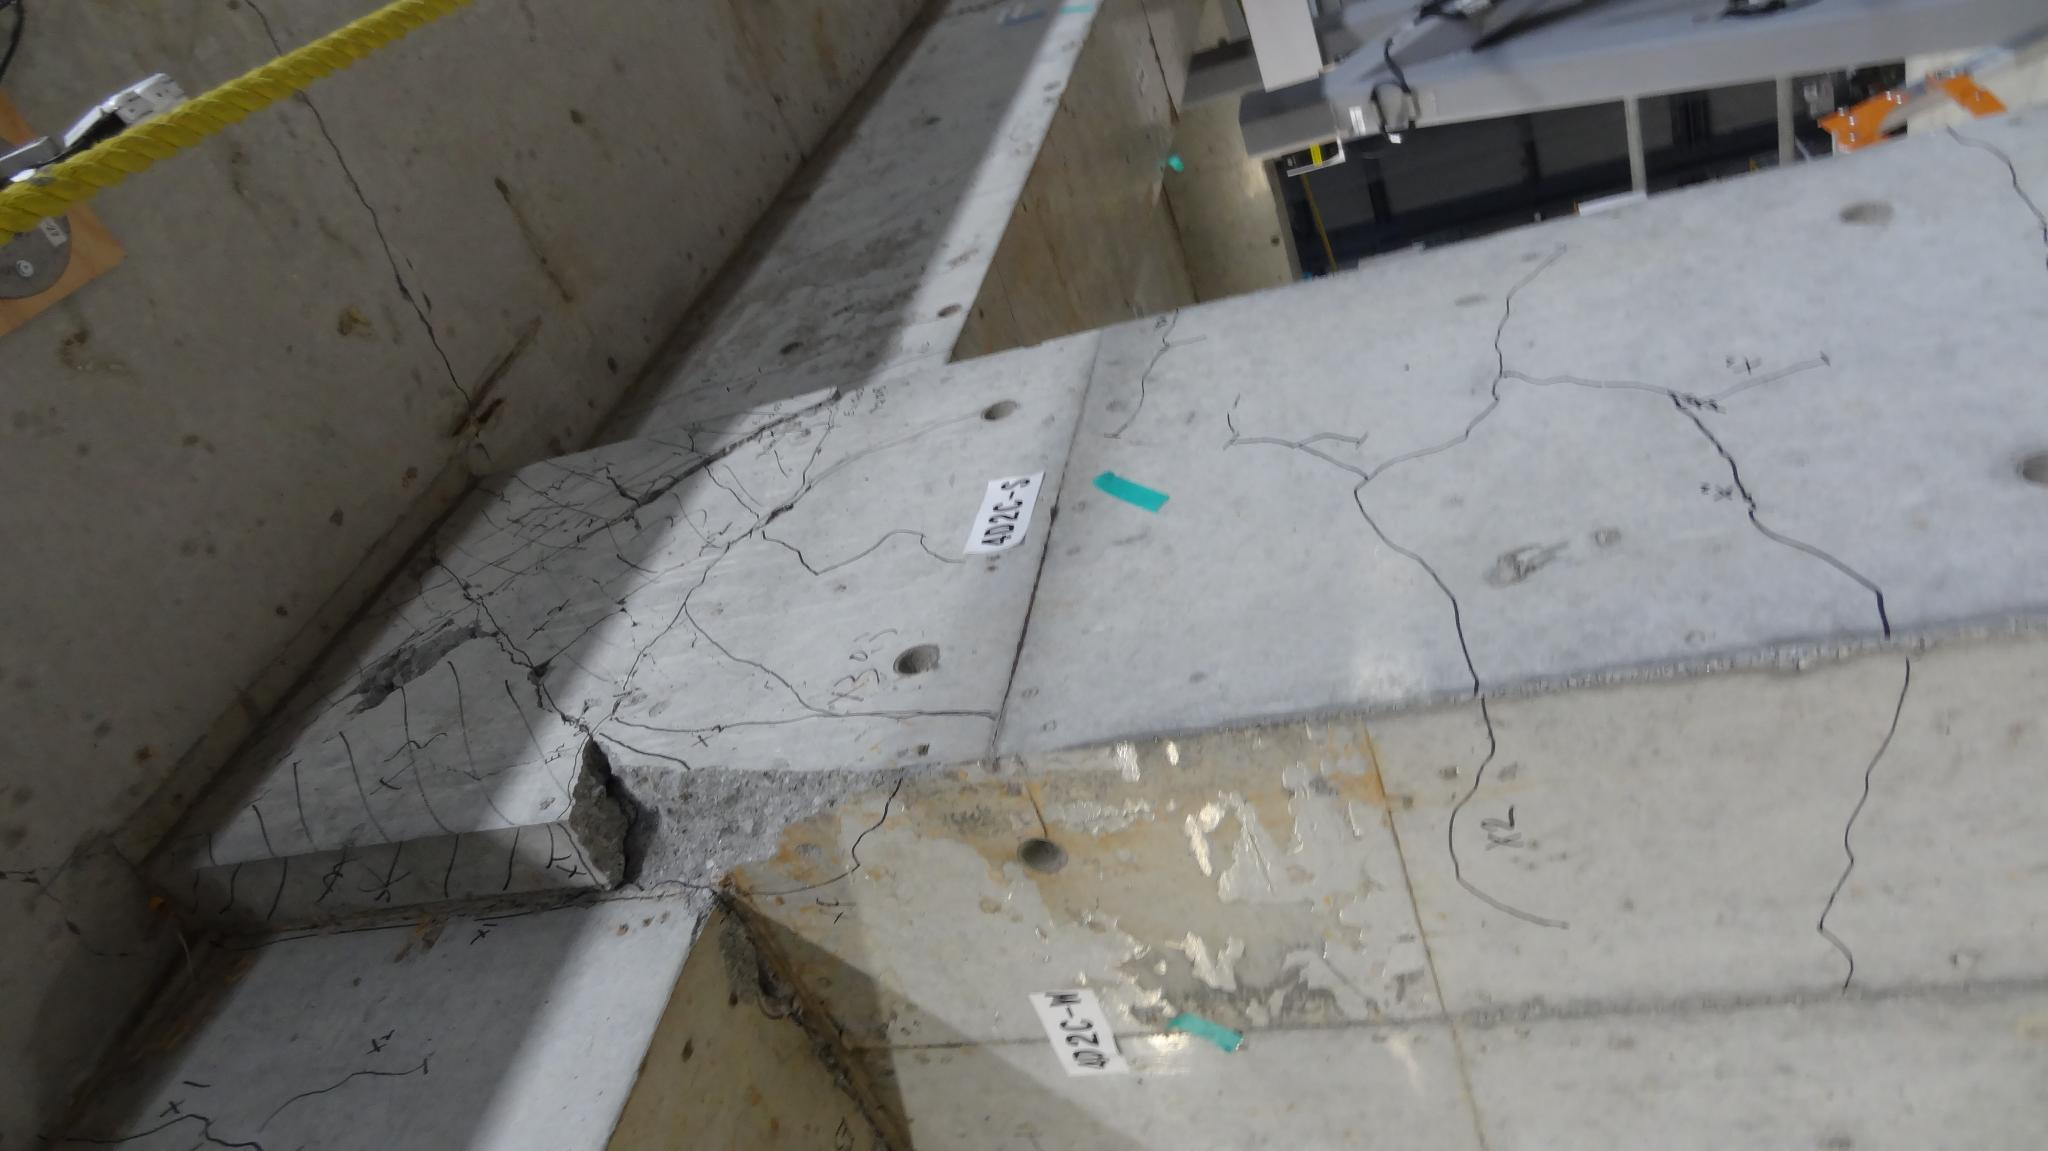crack: (423, 623, 745, 997), (420, 273, 642, 628), (741, 297, 1061, 474), (17, 258, 94, 428), (325, 447, 491, 515), (575, 762, 622, 966), (606, 474, 663, 619), (317, 400, 465, 455), (352, 504, 472, 569), (0, 65, 38, 264), (308, 338, 421, 393), (574, 467, 632, 567), (485, 544, 544, 642), (277, 851, 375, 904), (369, 446, 405, 583), (481, 477, 557, 534), (545, 591, 589, 685), (529, 361, 572, 452), (711, 1103, 790, 1151), (380, 599, 419, 690), (262, 556, 328, 605), (632, 704, 686, 760), (254, 734, 280, 850), (332, 557, 417, 589), (245, 638, 272, 728), (300, 293, 393, 318), (1094, 244, 1151, 281), (403, 288, 446, 334), (250, 372, 309, 403), (418, 613, 435, 719), (249, 317, 305, 347), (245, 583, 262, 679), (554, 437, 590, 482), (645, 723, 687, 761), (659, 547, 684, 610), (647, 510, 677, 559), (587, 442, 616, 489), (515, 387, 553, 422), (294, 251, 347, 276), (230, 267, 294, 287), (236, 219, 289, 243), (282, 545, 329, 572), (642, 605, 675, 641), (260, 502, 324, 520), (216, 330, 228, 420), (253, 443, 317, 459), (645, 470, 669, 512), (508, 421, 533, 461), (229, 473, 244, 537), (578, 616, 598, 658), (472, 346, 514, 363), (437, 542, 469, 562), (601, 529, 612, 587), (576, 492, 594, 527), (657, 645, 677, 676), (447, 310, 473, 333), (415, 589, 438, 613), (343, 244, 362, 272), (438, 534, 464, 553), (532, 463, 558, 481), (672, 774, 702, 789), (236, 191, 282, 200), (285, 207, 320, 218), (527, 428, 541, 452), (675, 591, 689, 615), (388, 277, 404, 296), (695, 684, 723, 694), (239, 544, 248, 575), (538, 422, 555, 437), (559, 501, 571, 515), (310, 183, 318, 203), (684, 543, 691, 558)
damage: (55, 567, 415, 939), (619, 622, 765, 842), (430, 333, 532, 499), (569, 409, 607, 440), (417, 561, 452, 591), (463, 526, 492, 553), (340, 539, 354, 556)
